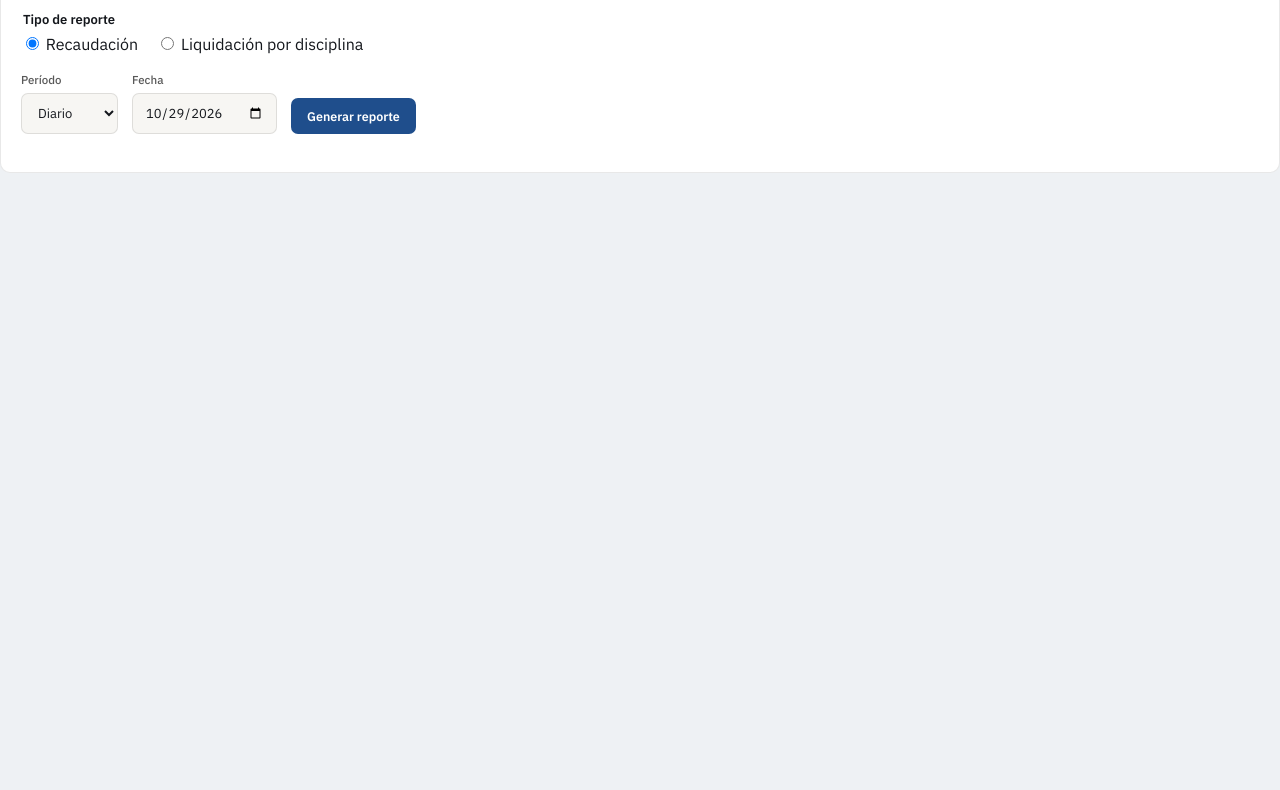
Test: ReportsView: revenue › shows no warning, the receipt summary, the signature lines and blank closing lines when everything adds up
Click the button "Generar reporte" at (353, 116), box [291, 98, 416, 134]
(page scrolled)
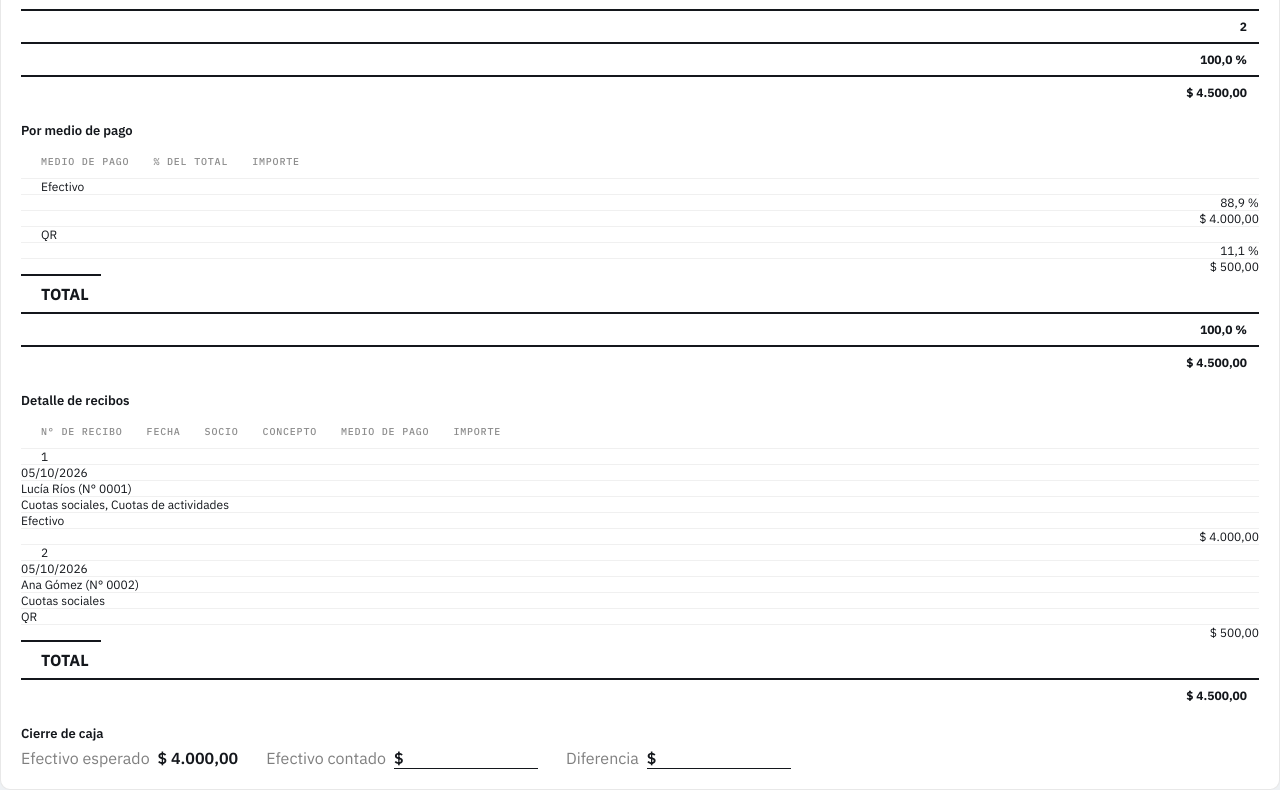
Now the text "$ 4.000,00" is shown, box [158, 748, 238, 769]
